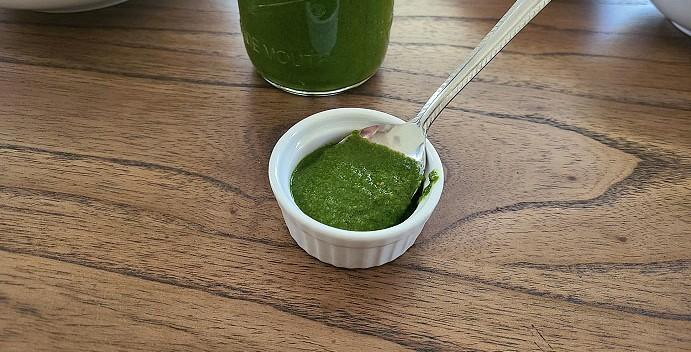GreenChutney: (239, 0, 393, 93), (288, 134, 426, 230)
